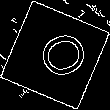O_W: (23, 25, 87, 85)
